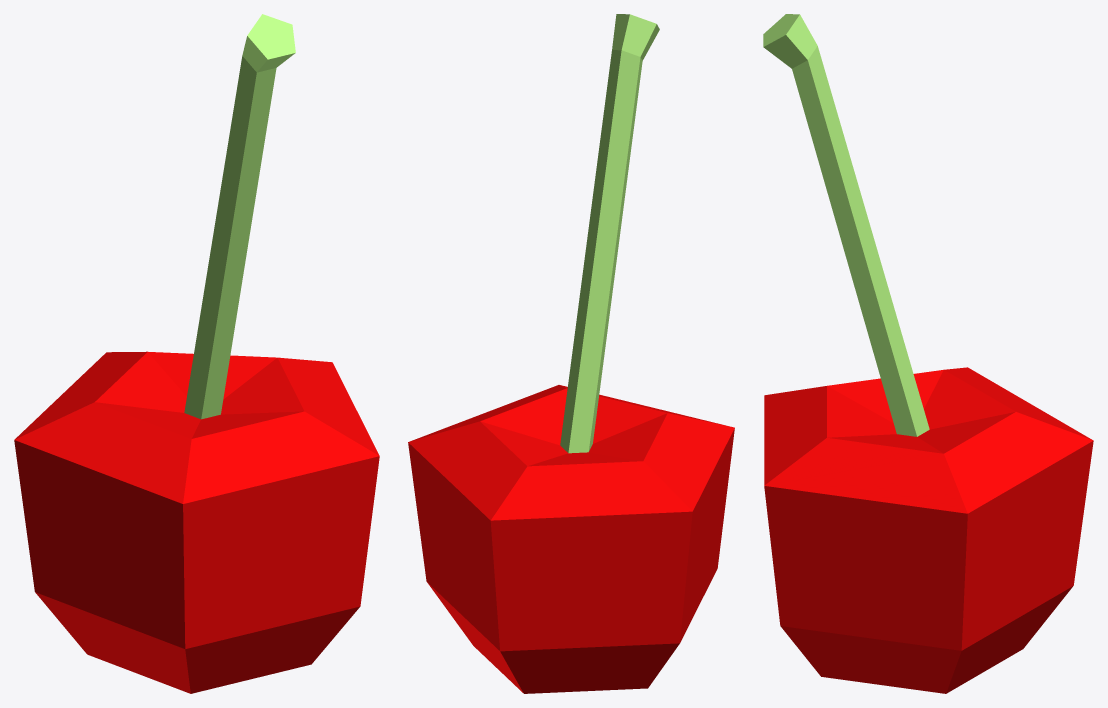
File: cherry01.obj
3 renders of one model, left to right at view 1: azimuth 30°, elevation 25°; view 2: azimuth 150°, elevation 25°; view 3: azimuth 270°, elevation 25°, orthographic. The views are drawn at different scales.
Visible parts, largest first — view 1: Cylinder.001; view 2: Cylinder.001; view 3: Cylinder.001.
Part boxes in pixels (bbox=[...]): Cylinder.001: bbox=[14, 14, 379, 693]; Cylinder.001: bbox=[408, 14, 734, 693]; Cylinder.001: bbox=[763, 14, 1093, 693].
Bounding box in the file's own units: 0.0258 × 0.0522 × 0.0246.
1 material, 1 textured.
